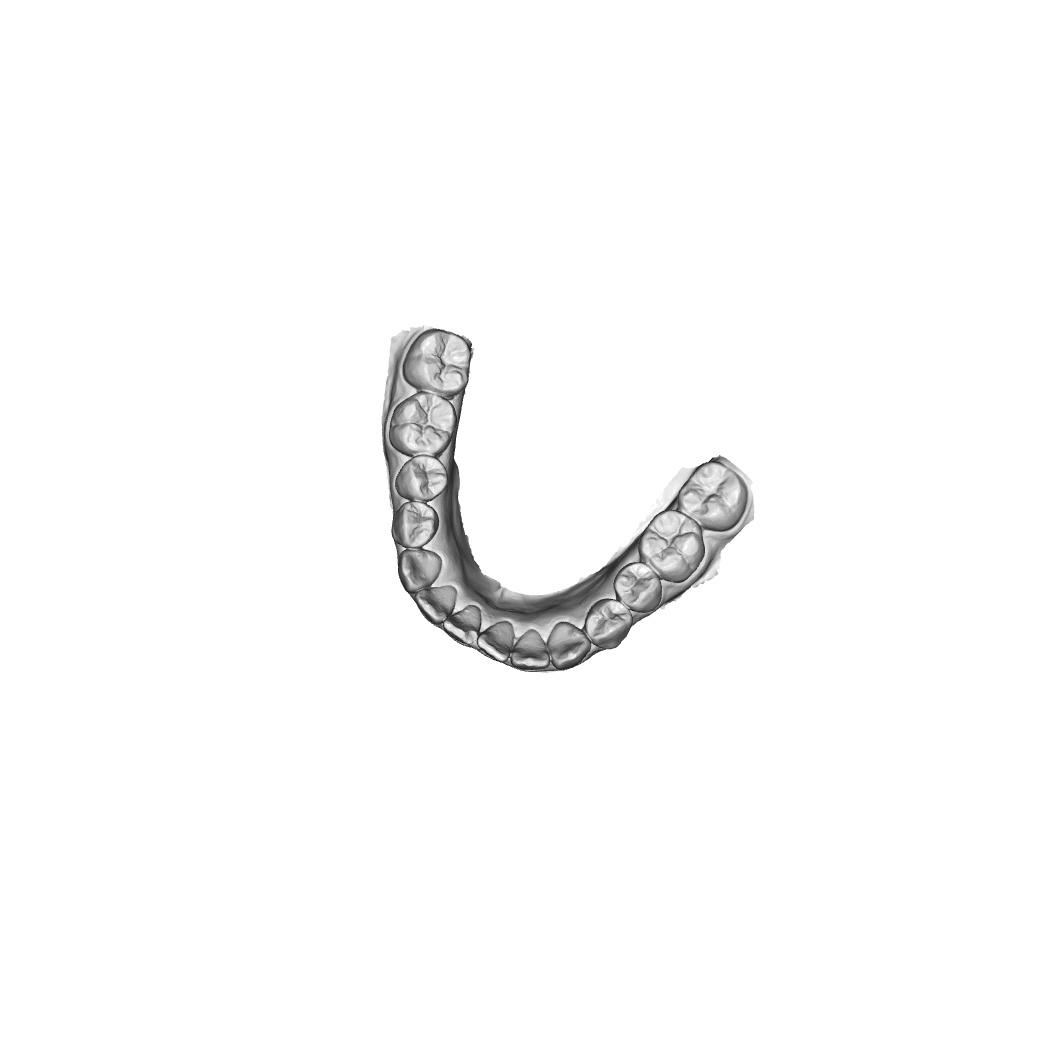canine: (546, 621, 592, 670), (397, 548, 443, 594)
incisor: (509, 627, 552, 671), (414, 584, 458, 626), (476, 620, 516, 665), (442, 605, 483, 646)
molar: (401, 327, 474, 399), (676, 460, 748, 533), (638, 509, 706, 584), (388, 390, 458, 459)
premolar: (394, 453, 449, 503), (612, 560, 663, 613), (584, 598, 634, 649), (391, 500, 440, 549)
